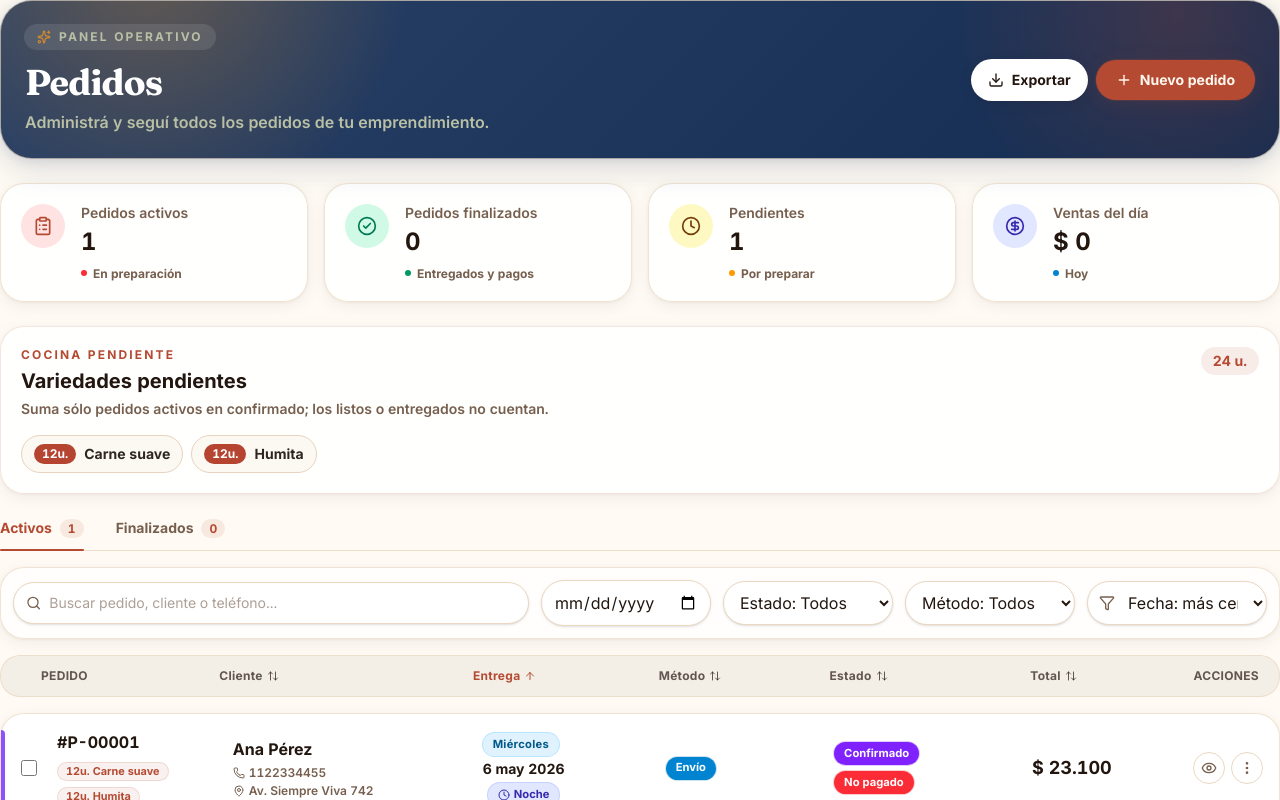
Scenario: OrdersPage › shows the redesigned desktop order form sections and updates the sticky summary
The width and height of the screenshot is (1280, 800).
Click the button with aria-label "+ nuevo pedido" at (1175, 80), box left=1096, top=60, right=1255, bottom=100
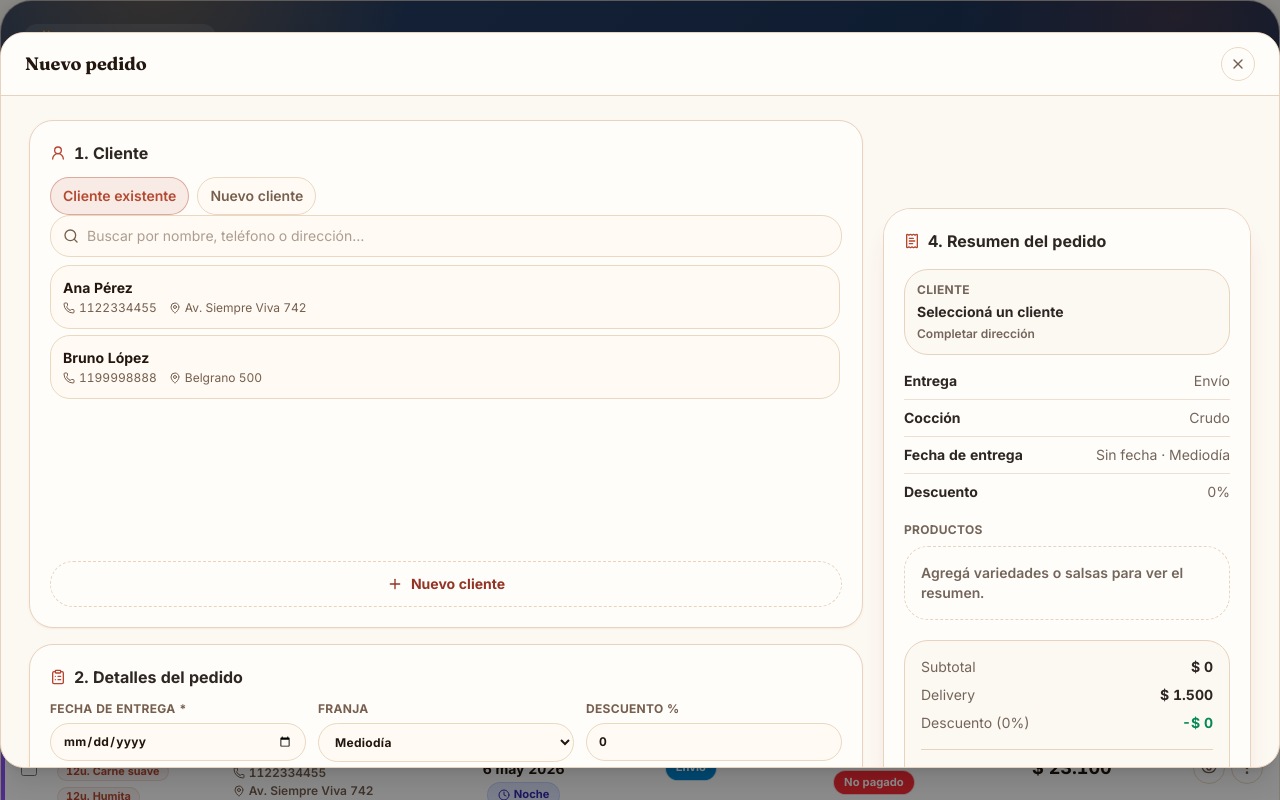
Now the heading "1. Cliente" is shown, box left=50, top=143, right=148, bottom=163
Now the heading "2. Detalles del pedido" is shown, box left=50, top=667, right=243, bottom=687
Now the heading "4. Resumen del pedido" is shown, box left=904, top=231, right=1106, bottom=251
Click the button with aria-label "seleccionar cliente ana pérez" at (98, 288), box left=50, top=265, right=840, bottom=329
(page scrolled)
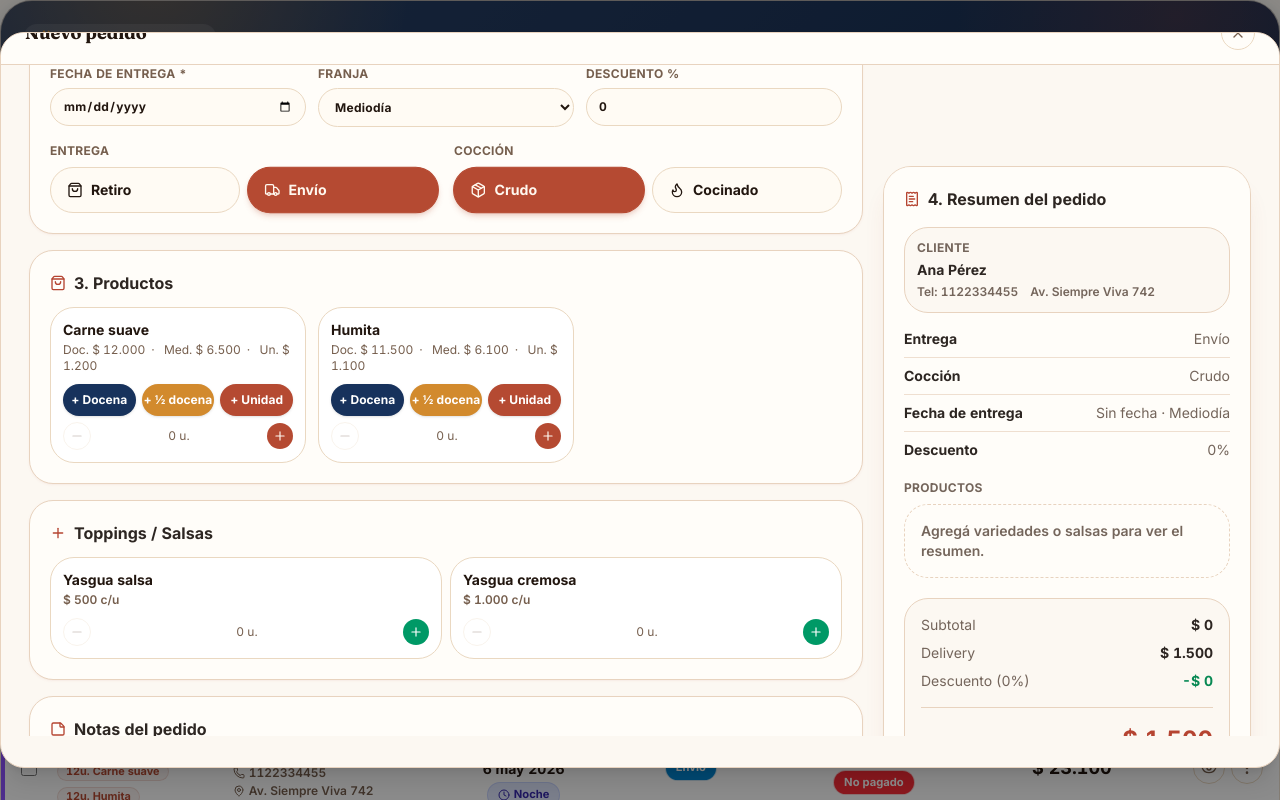
Click the button "+ Docena" below "$ 12.000" at (99, 400), box left=63, top=384, right=136, bottom=416
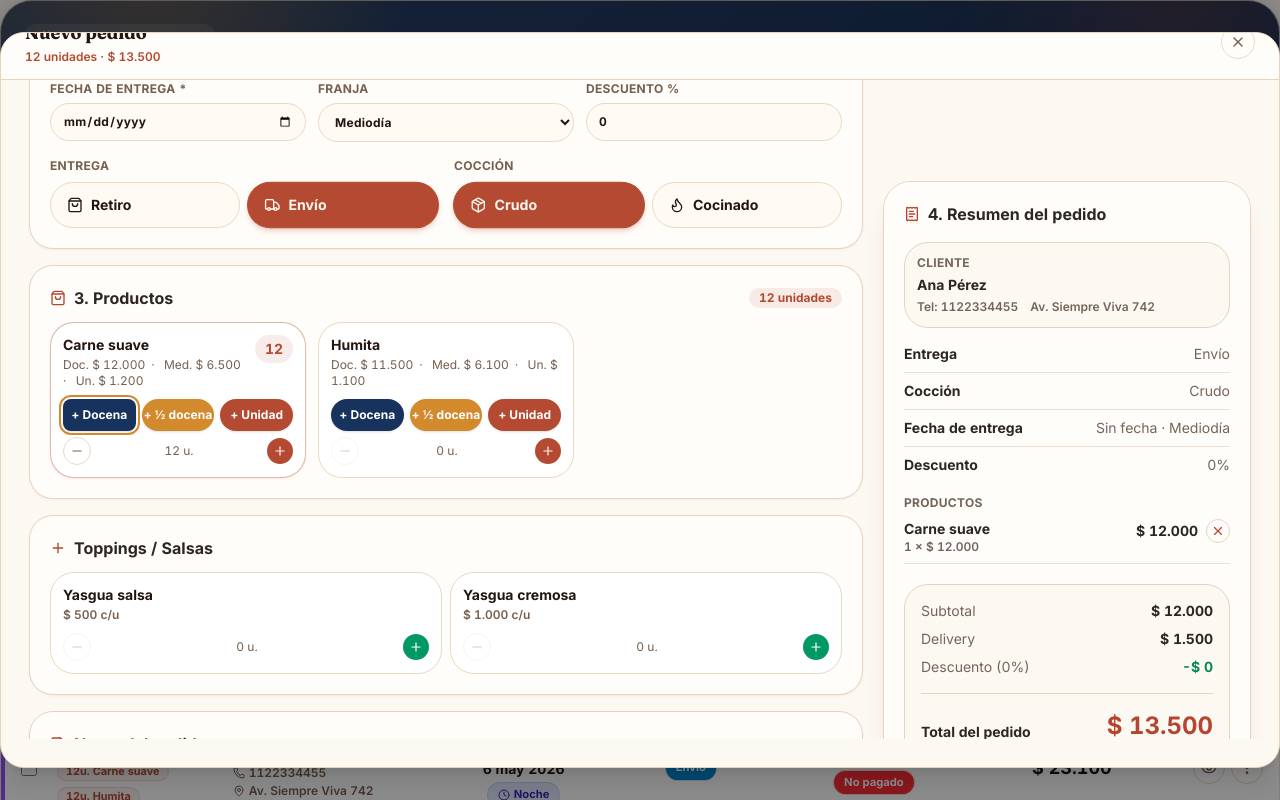
Now the text "Ana Pérez" is shown, box left=917, top=276, right=987, bottom=293
Now the text "Carne suave" below "Sin fecha" is shown, box left=904, top=520, right=990, bottom=537
Now the text "1 × $ 12.000" is shown, box left=904, top=539, right=990, bottom=555
